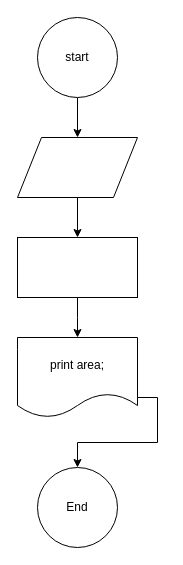
The diagram is 183 pixels wide and 565 high, and some of its shapes have lost their labels. Each missing label, with the centre of its shape:
area=length*width: the point at 77,267
var length; var width; var area;: the point at 77,167
